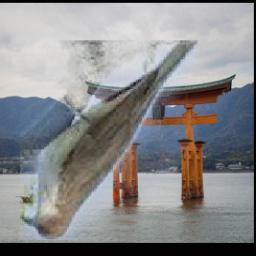Cuckoo: (21, 41, 200, 241)
